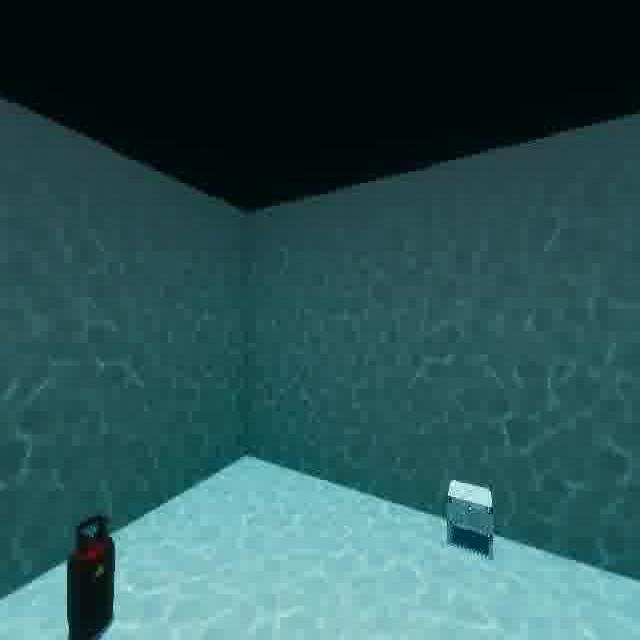Cylinder: (62, 509, 126, 640)
Docking Station: (441, 470, 502, 564)
